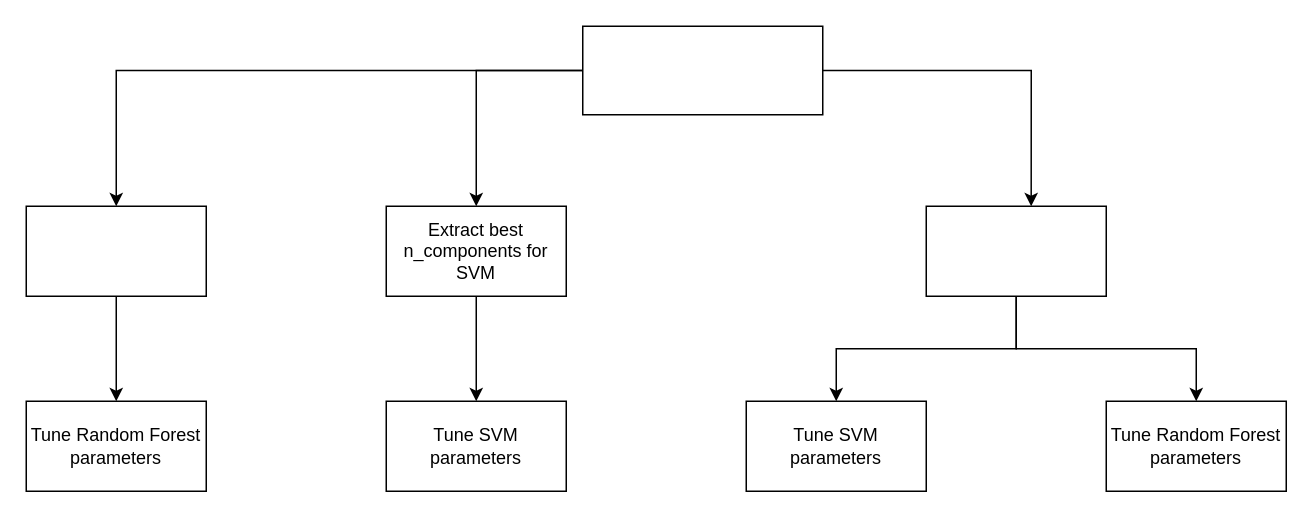
Some shapes in this 1313 by 518 pixel diagram are drawn without their labels. Here are the shapes that lost their labels. From the top down, the centre of each, then its label:
At [702,70]: "Run PCA with varying n_components".
At [115,250]: "Extract best n_components for Random Forest".
At [1015,250]: "Extract best n_components for Voting Classifier".
